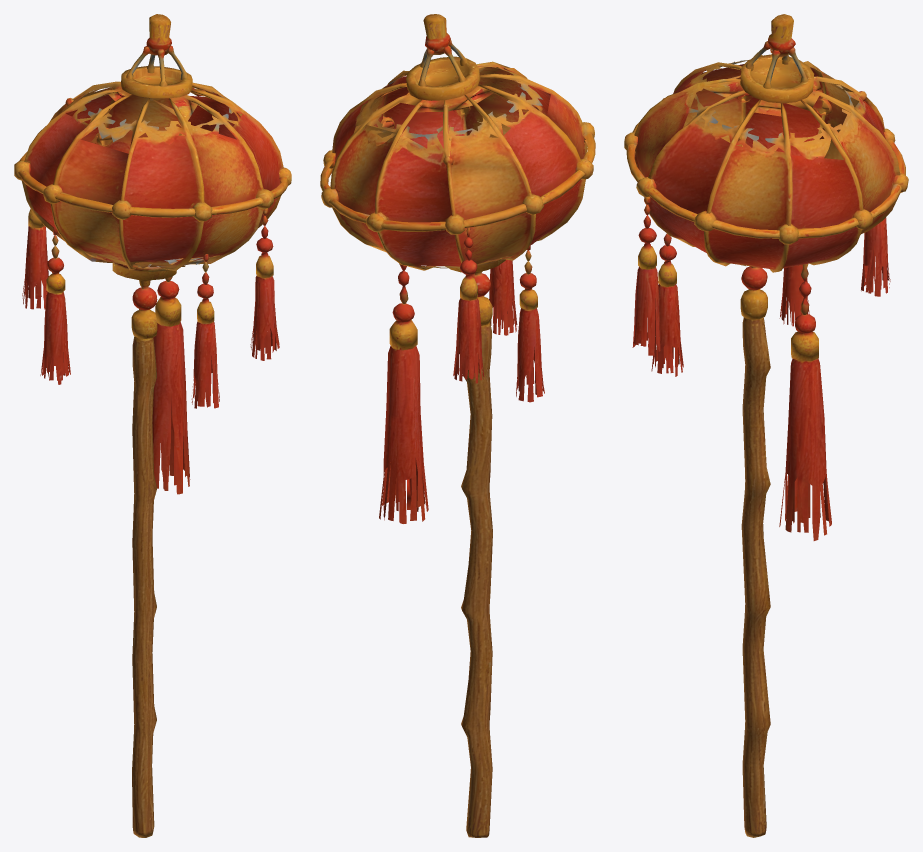
File: lantern.glb
3 views of the same model, side by side, from view 1: azimuth 30°, elevation 25°; view 2: azimuth 150°, elevation 25°; view 3: azimuth 270°, elevation 25° (orthographic). The views are drawn at different scales.
Visible parts, largest first — view 1: tripo_node_6a1f41f2-7fb8-48f7-ae98-eec3ffe01de9; view 2: tripo_node_6a1f41f2-7fb8-48f7-ae98-eec3ffe01de9; view 3: tripo_node_6a1f41f2-7fb8-48f7-ae98-eec3ffe01de9.
Part boxes in pixels (left/top/right/bottom): tripo_node_6a1f41f2-7fb8-48f7-ae98-eec3ffe01de9: left=14, top=14, right=291, bottom=837; tripo_node_6a1f41f2-7fb8-48f7-ae98-eec3ffe01de9: left=320, top=14, right=595, bottom=837; tripo_node_6a1f41f2-7fb8-48f7-ae98-eec3ffe01de9: left=624, top=14, right=908, bottom=837.
Size of the model in its own units: 0.3101 by 0.9995 by 0.3101.
1 material, 1 textured.
